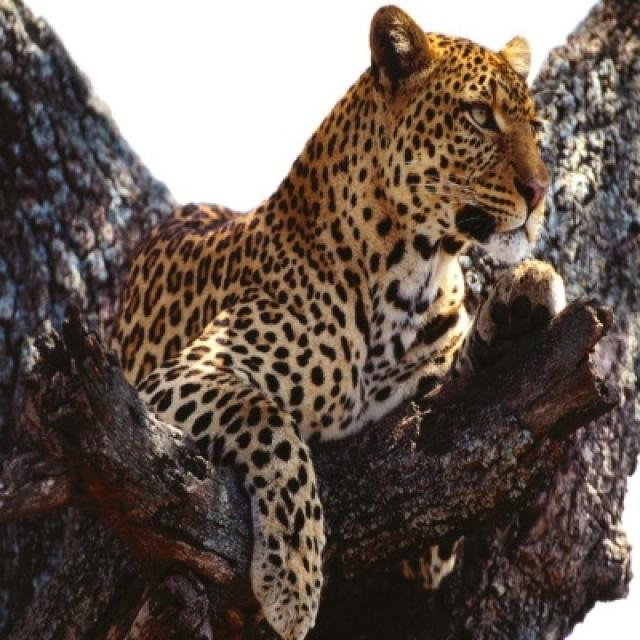Jaguar: (112, 6, 550, 638)
